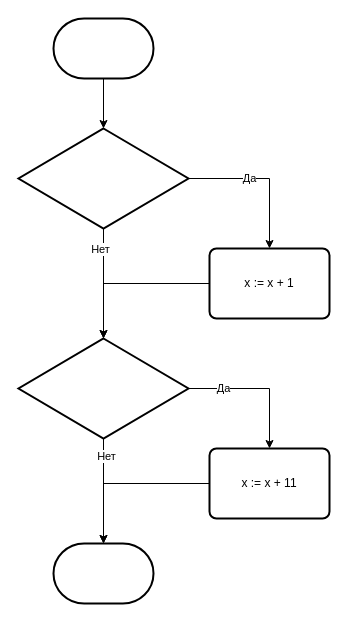
Some shapes in this 347 by 621 pixel diagram are drawn without their labels. The centre of each missing label's shape, as x and y in pixels:
(a=4) или (c<0): (103,388)
(a>0) и (b<0) и (x>6): (103,178)
